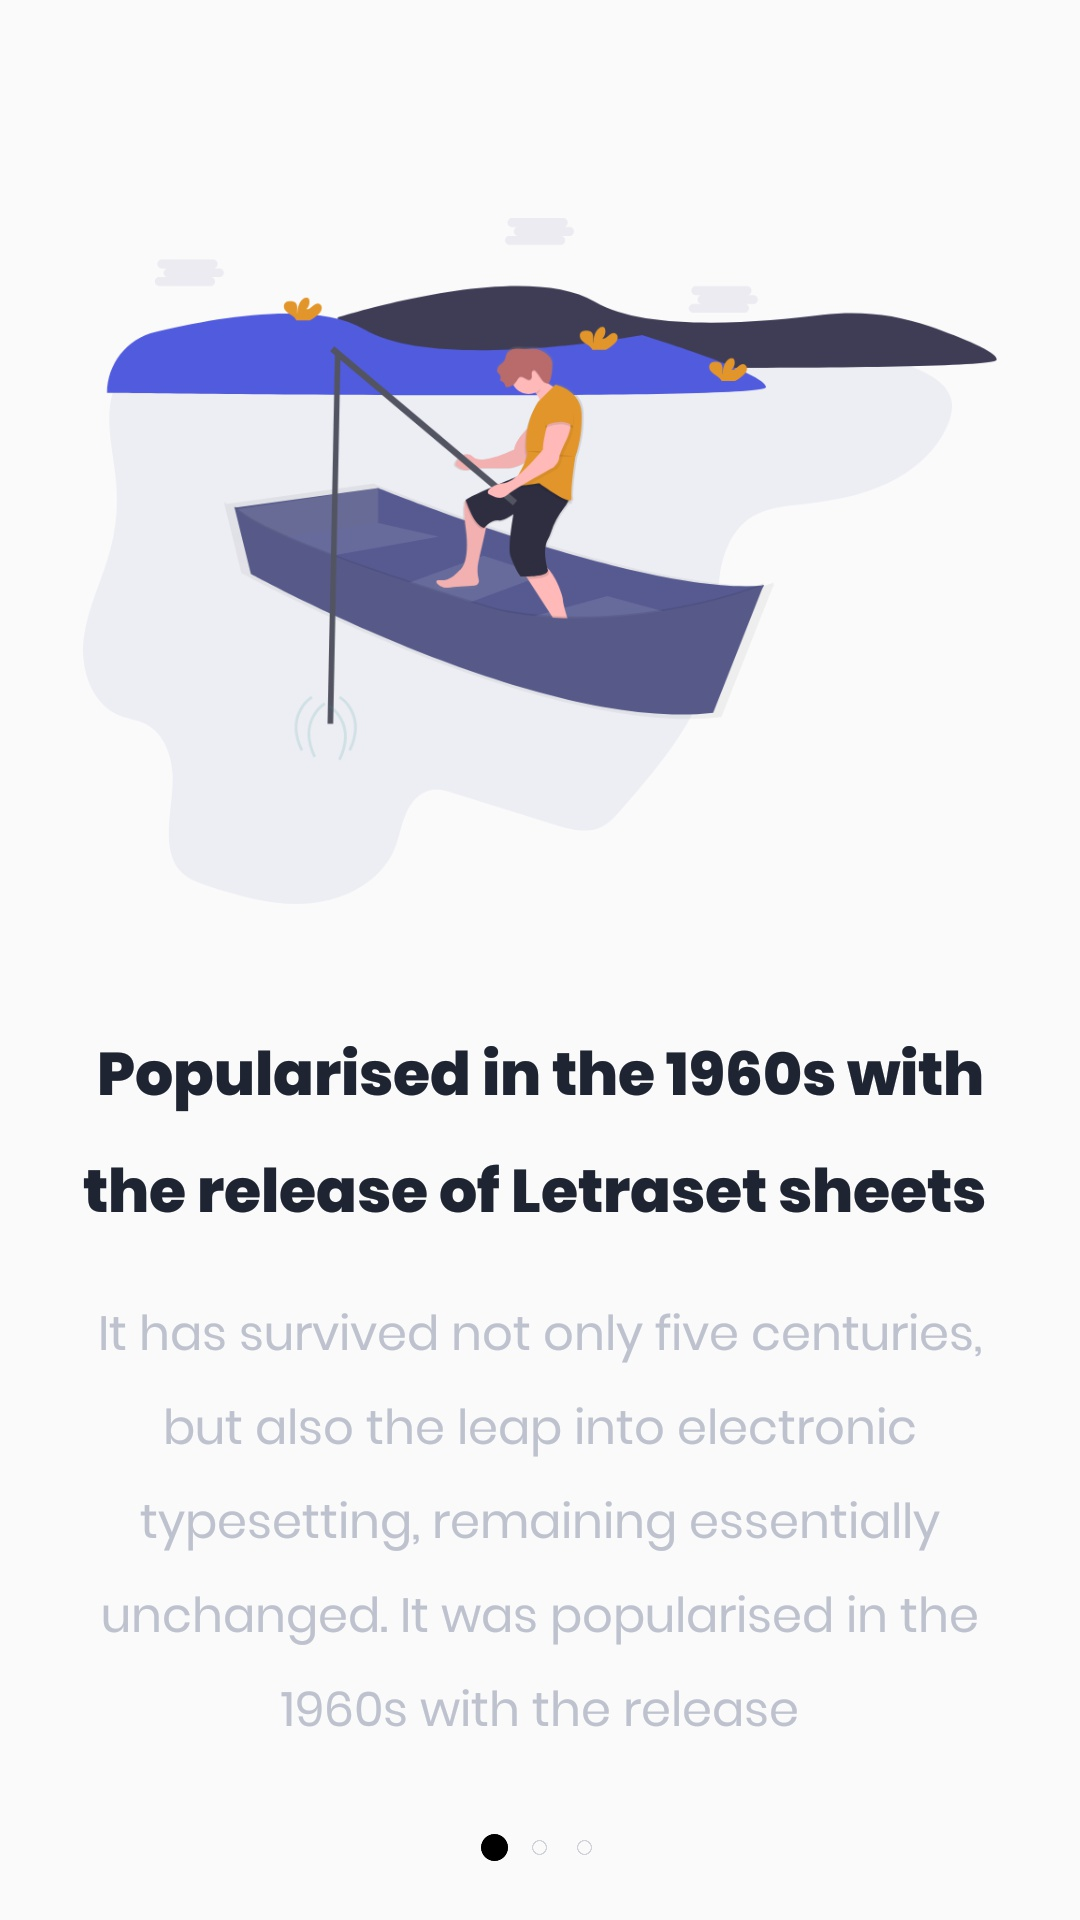Image: (82, 215, 1000, 906)
PageIndicator: (480, 1832, 593, 1863)
Text: (100, 1312, 982, 1729), (82, 1042, 985, 1217)
